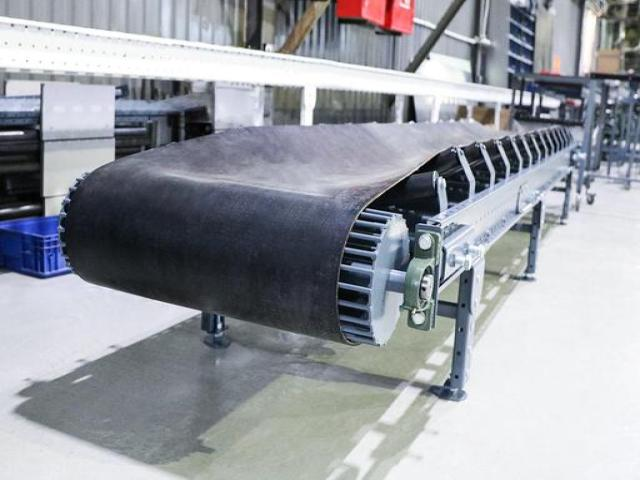conveyor: (41, 115, 603, 344)
